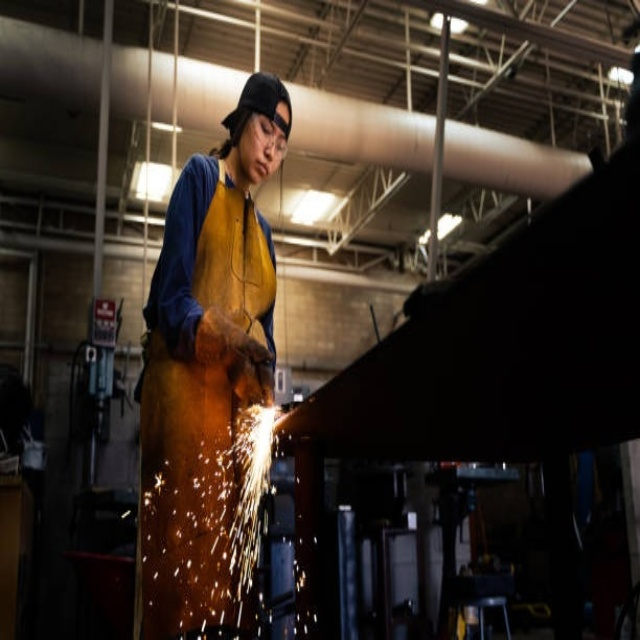Gafas: (253, 114, 288, 160)
Guantes: (196, 304, 274, 378)
Sin_mascara: (250, 155, 273, 190)
